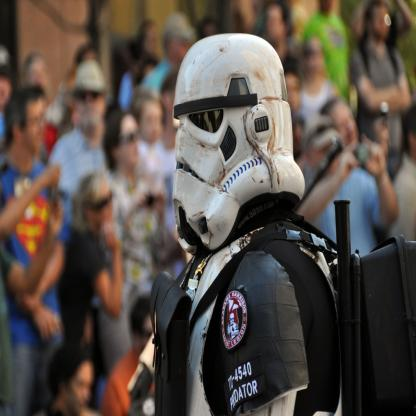Helmet: (180, 42, 296, 222)
